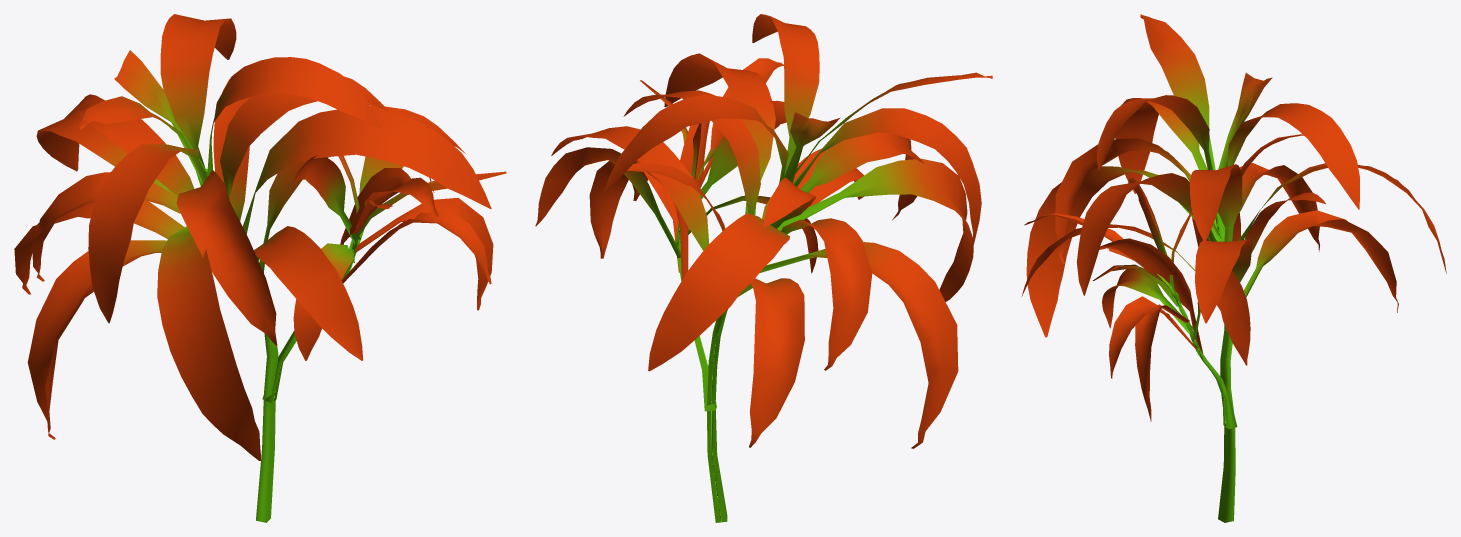
The model's file is Pink Cordyline_LOD0_Var6_sfhhN.fbx.
3 views of the same model, side by side, from view 1: azimuth 30°, elevation 25°; view 2: azimuth 150°, elevation 25°; view 3: azimuth 270°, elevation 25° (orthographic). The views are drawn at different scales.
Parts seen in each view (by area): view 1: _1432_Var6_LOD0; view 2: _1432_Var6_LOD0; view 3: _1432_Var6_LOD0.
Boxes of the visible parts, x1,y1,x2,y2 form: _1432_Var6_LOD0: [14, 14, 506, 522]; _1432_Var6_LOD0: [535, 14, 992, 522]; _1432_Var6_LOD0: [1021, 14, 1446, 522].
Bounding box in the file's own units: 85.68 × 95.34 × 88.06.
